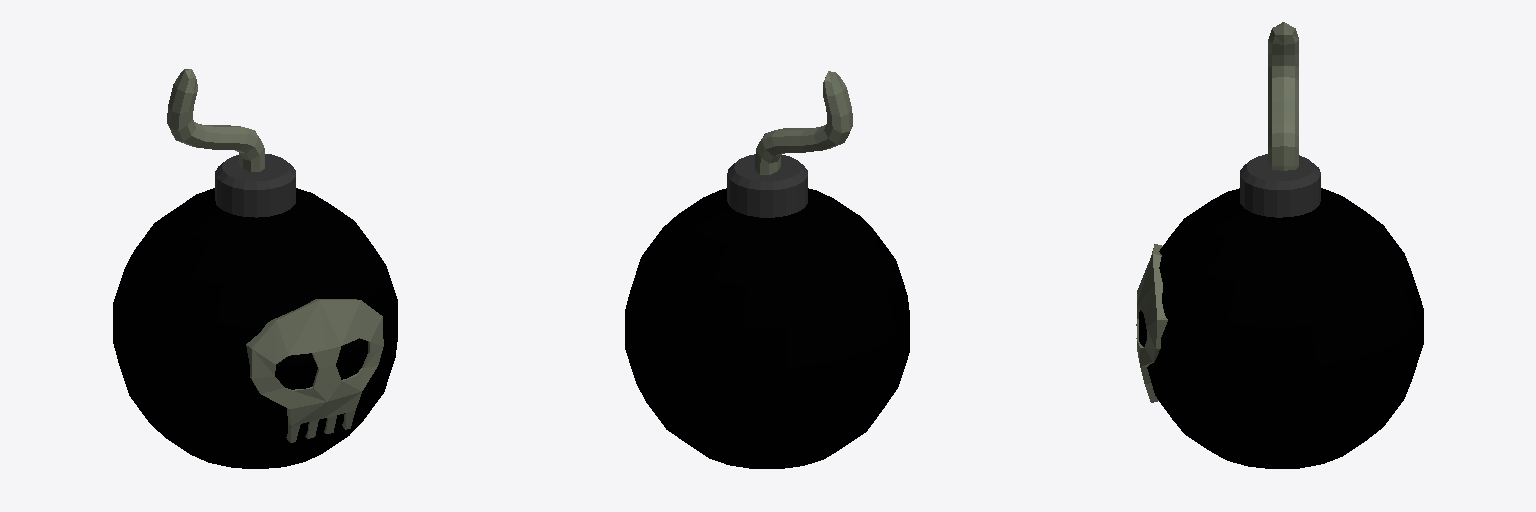
The model's file is Bomb.obj.
The picture shows the model from 3 angles: view 1: azimuth 30°, elevation 25°; view 2: azimuth 150°, elevation 25°; view 3: azimuth 270°, elevation 25°; orthographic projection.
Parts seen in each view (by area): view 1: Bomb_Sphere.003; view 2: Bomb_Sphere.003; view 3: Bomb_Sphere.003.
Boxes of the visible parts, x1,y1,x2,y2 form: Bomb_Sphere.003: [113, 69, 397, 468]; Bomb_Sphere.003: [625, 71, 909, 468]; Bomb_Sphere.003: [1136, 22, 1423, 468].
Size of the model in its own units: 1.13 by 1.75 by 1.13.